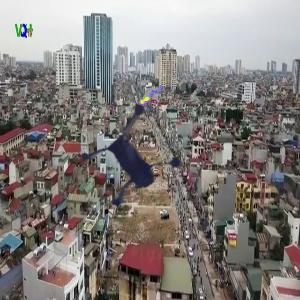drone: (71, 83, 222, 234)
